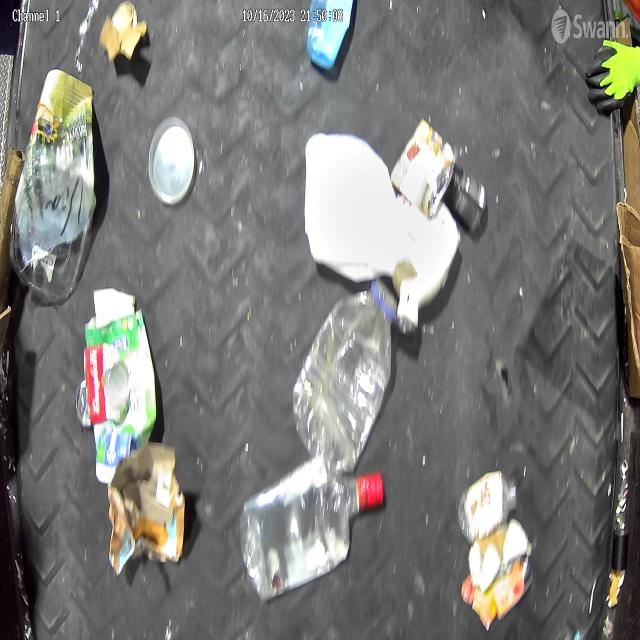can: (389, 117, 457, 217), (85, 341, 130, 426), (75, 376, 96, 430)
milk_jug: (303, 131, 416, 286)
plastic_bottle: (290, 275, 399, 477), (238, 458, 386, 601)
